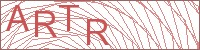A: (5, 3, 31, 34)
R: (85, 17, 112, 47), (33, 9, 59, 39)
T: (57, 3, 81, 33)
